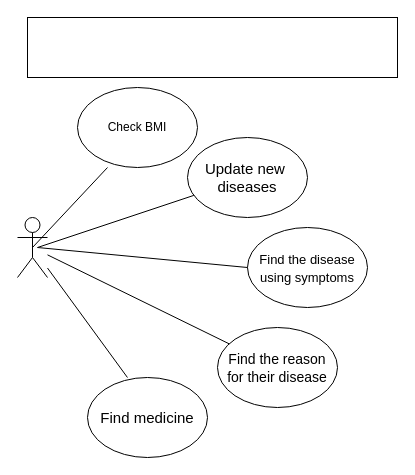
This 415x475 diagram has some shape labels left out. The centre of each missing label's shape, as x and y in pixels:
Actor: the point at 32,247
HEALTH MANAGEMENT SYSTEM: the point at 212,47
